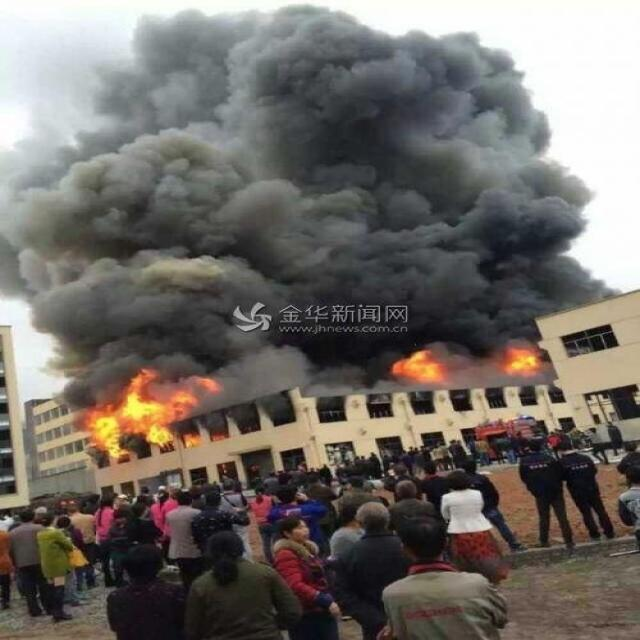Fire: (83, 368, 228, 460), (390, 348, 450, 383), (504, 346, 538, 374)
Smoke: (1, 3, 622, 460)
